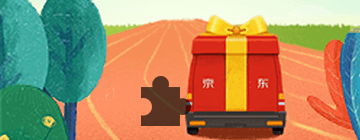target: (141, 76, 191, 126)
